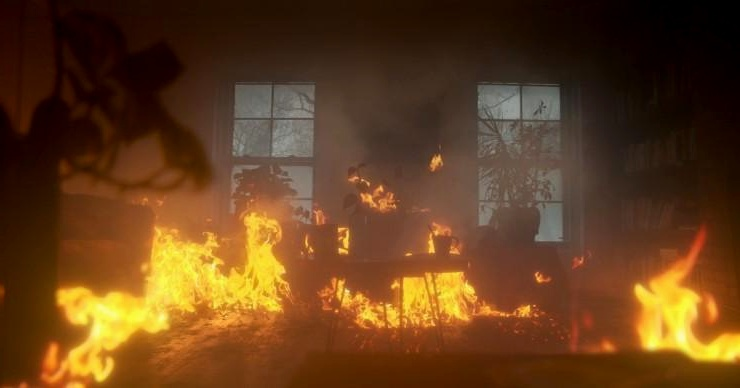fire: (31, 222, 724, 381)
